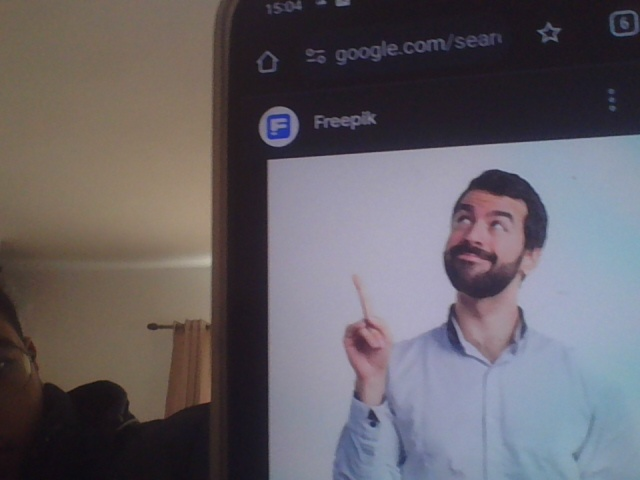fake: (435, 142, 546, 300)
